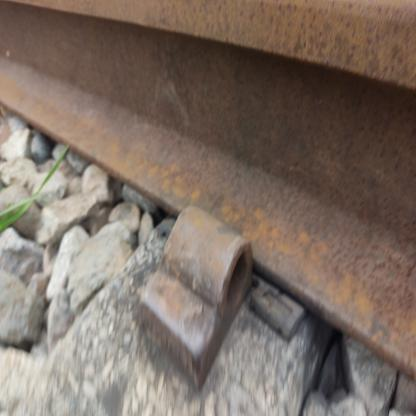Defective 1: (104, 167, 324, 402)
